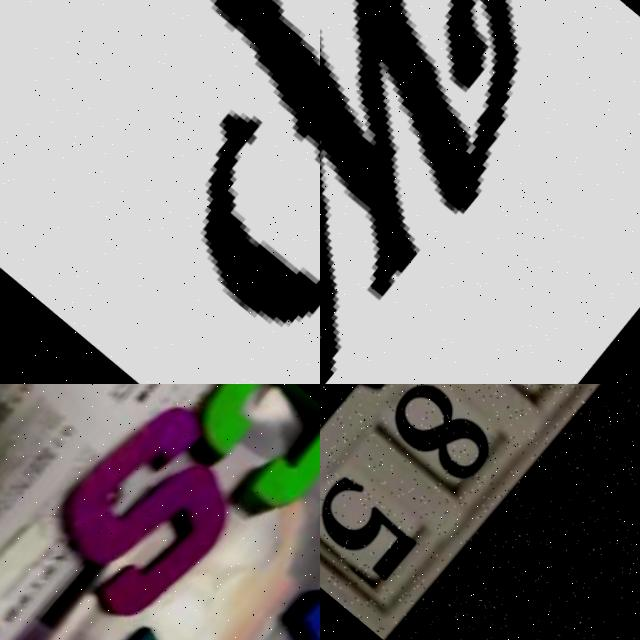5: (320, 449, 438, 596)
8: (370, 384, 518, 501)
S: (18, 384, 261, 640)
W: (320, 0, 538, 335)
Z: (0, 394, 90, 640)
